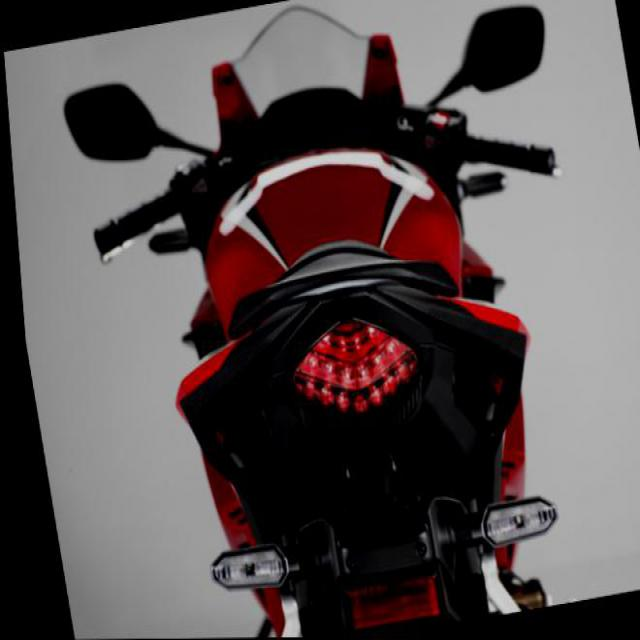CBR500R: (48, 0, 632, 639)
